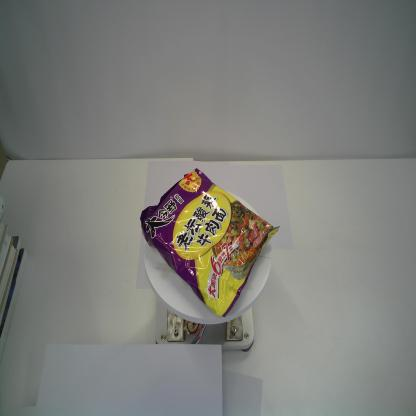Instant Noodles: (139, 166, 281, 321)
